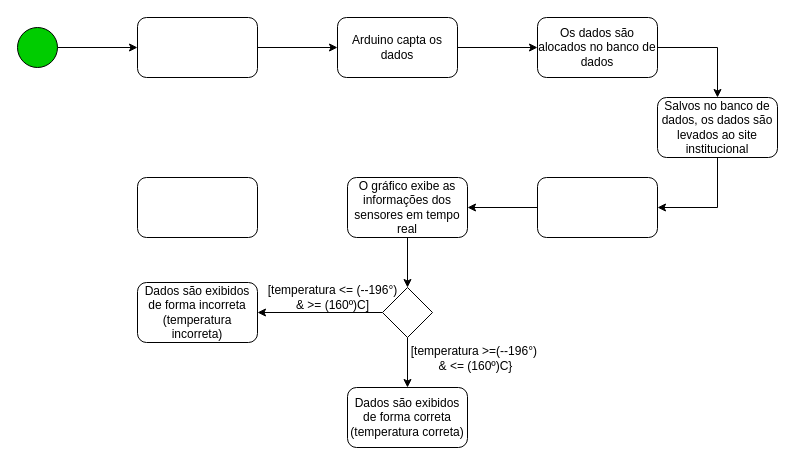
The diagram is 795 pixels wide and 465 high, and some of its shapes have lost their labels. The shapes that lost their labels are listed below. From the top down, each one's centre as x and y in pixels, then its label:
(197,47): Sensor emite os dados de temperatura
(197,207): Nos gráficos, o cliente visualiza as informações
(597,207): Os dados são convertidos em informações para o gráfico
